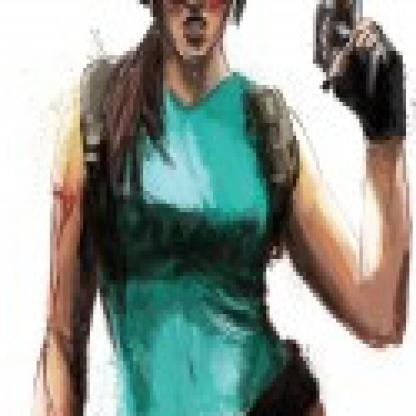gun: (286, 0, 413, 111)
